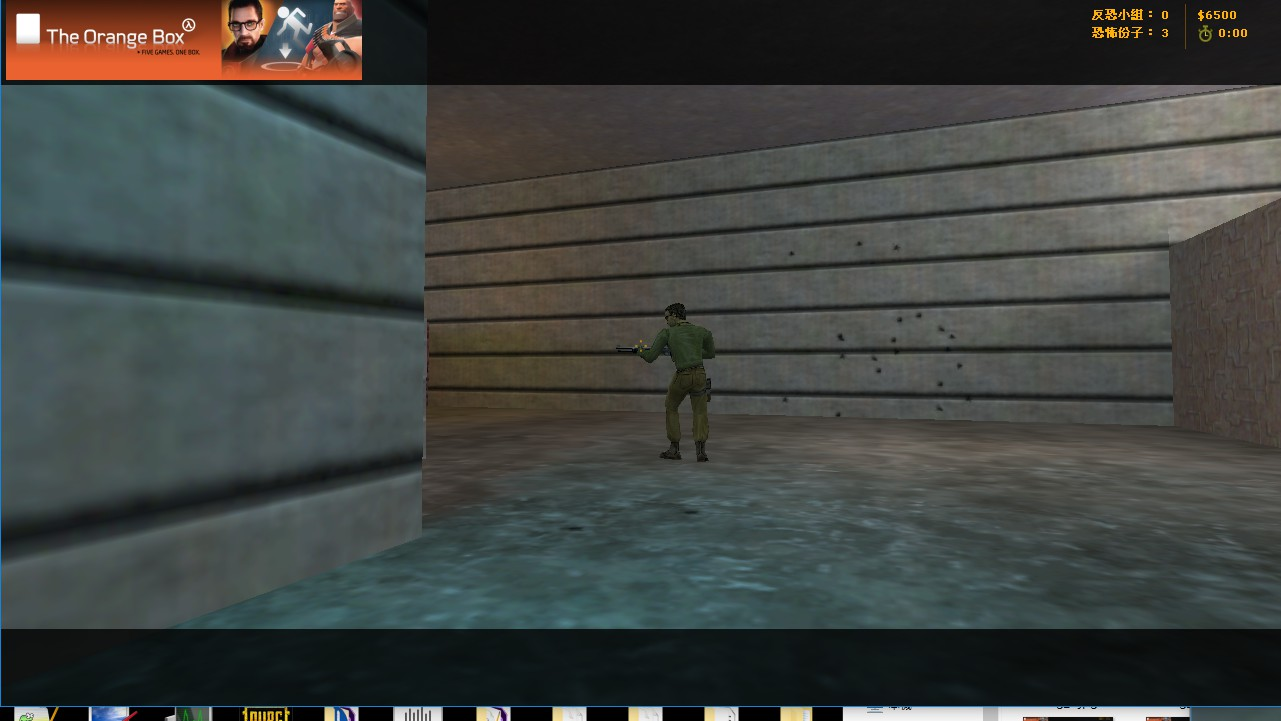person: (621, 295, 725, 470)
